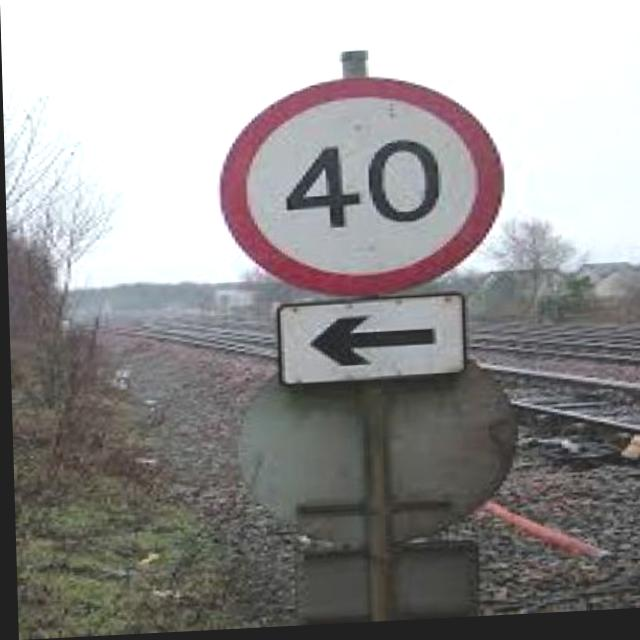limit40: (203, 69, 513, 306)
